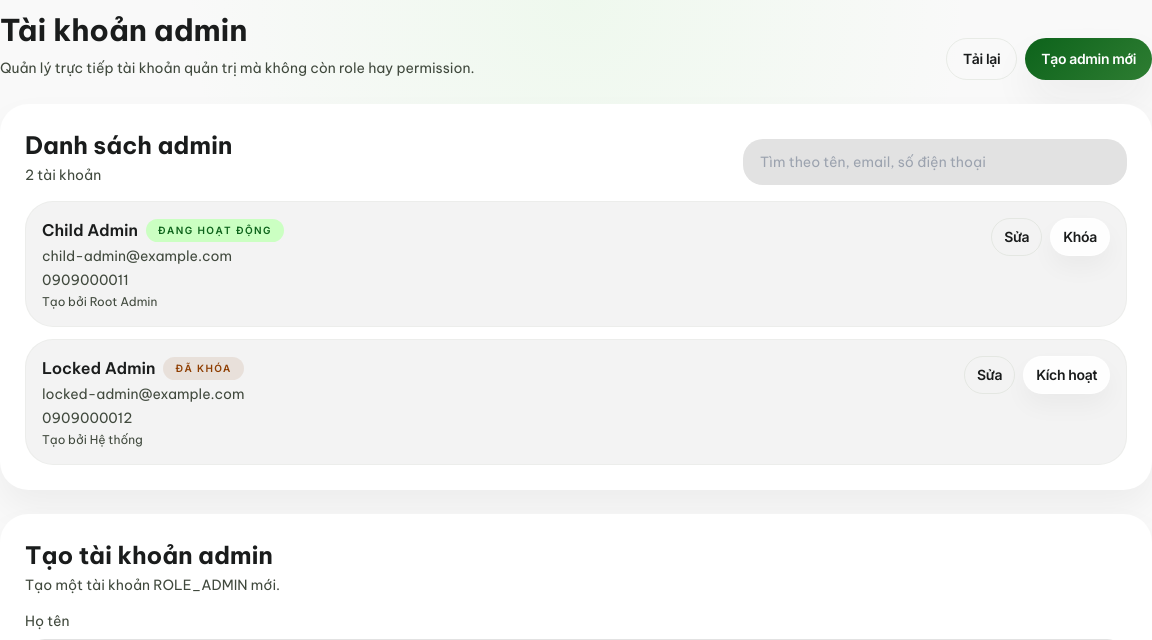
it: AdminAdminsPage › renders admin accounts and filters them by search
Expected: the heading "Tài khoản admin" is shown, [0,11,248,49]
Expected: the text "child-admin@example.com" is shown, [42,247,232,265]
Type "locked" into the field with placeholder "Tìm theo tên, email, số điện thoại". click: point(935, 162)
box: [743,139,1127,185]
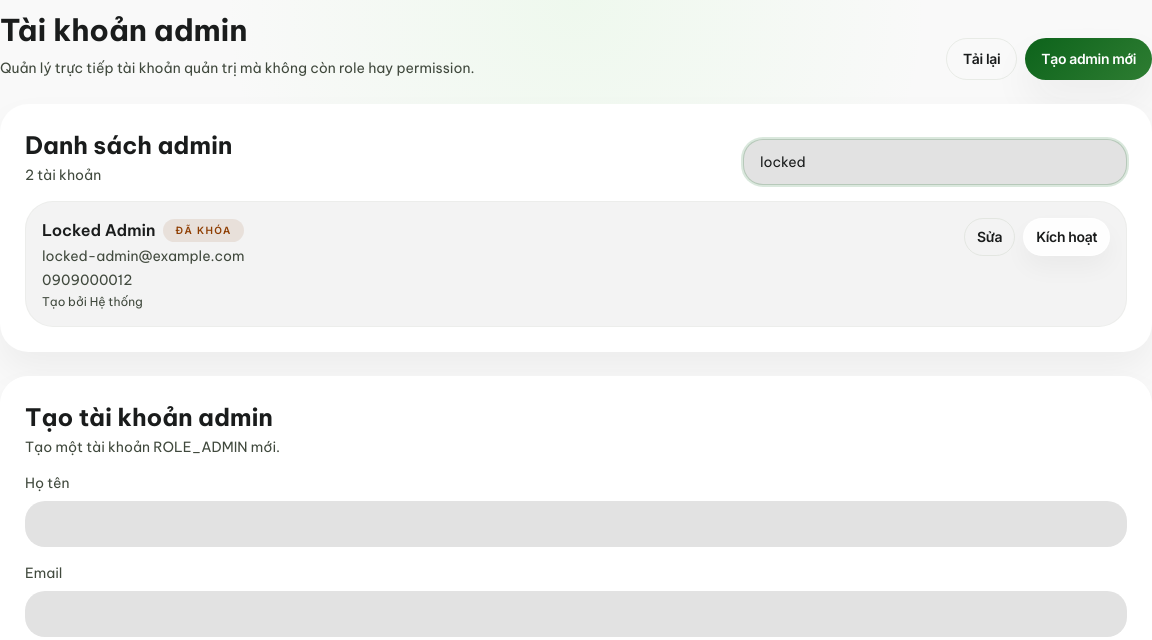
Expected: the text "locked-admin@example.com" is shown, [42,246,245,266]
Result: the text "child-admin@example.com" is gone
